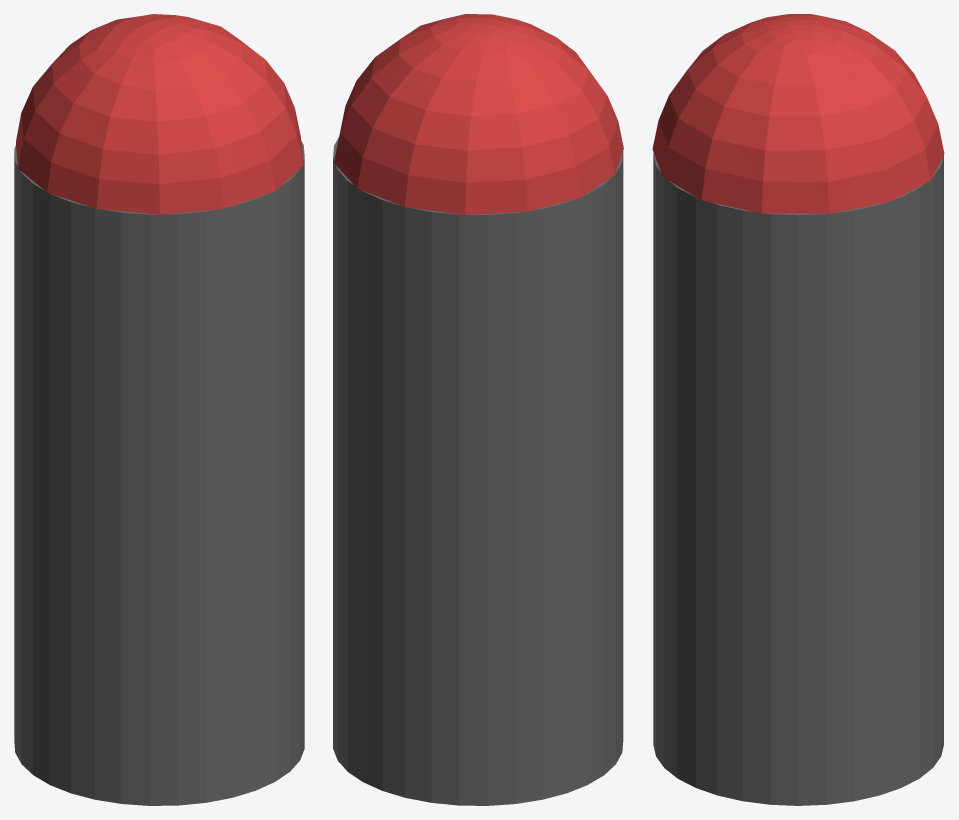
The model's file is road flayer.fbx.
The picture shows the model from 3 angles, left to right: view 1: azimuth 30°, elevation 25°; view 2: azimuth 150°, elevation 25°; view 3: azimuth 270°, elevation 25°; orthographic projection.
Visible parts, largest first — view 1: PM3D_Cylinder3D1_75; view 2: PM3D_Cylinder3D1_75; view 3: PM3D_Cylinder3D1_75.
Part boxes in pixels (x1,y1,x2,y2): PM3D_Cylinder3D1_75: (14,14,304,805); PM3D_Cylinder3D1_75: (333,14,623,805); PM3D_Cylinder3D1_75: (652,14,944,805).
Bounding box in the file's own units: 31.01 × 84.44 × 31.14.
